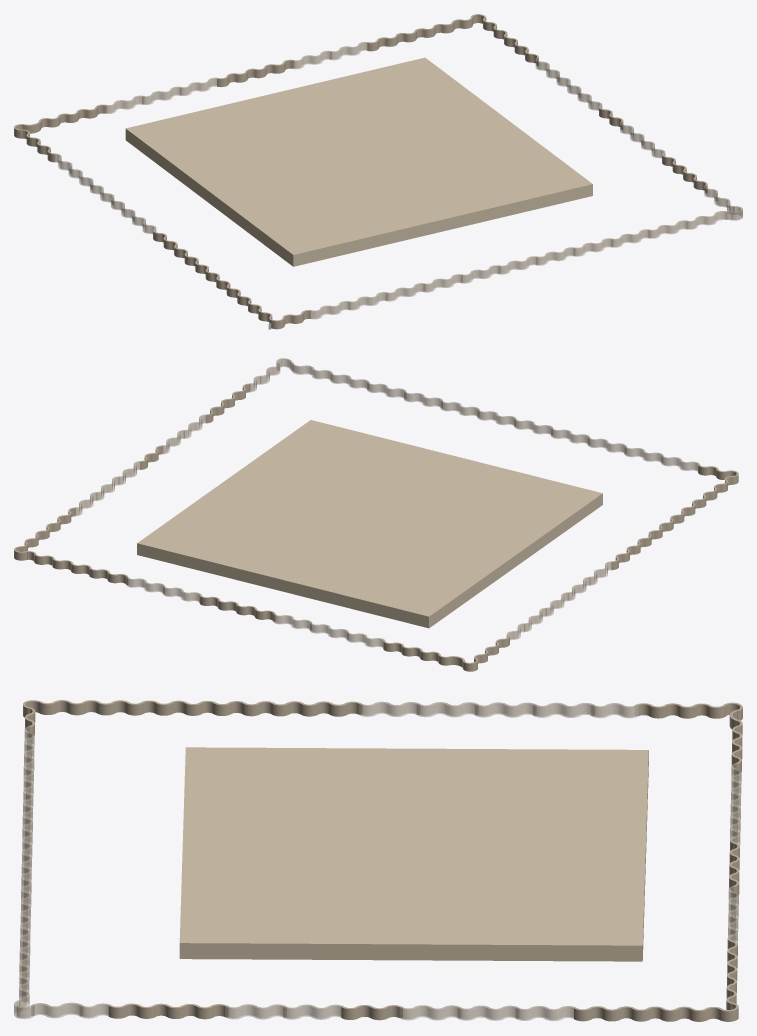
Rendered from Unfinished_SSaqqara.glb.
The picture shows the model from 3 angles, top to bottom: view 1: azimuth 30°, elevation 25°; view 2: azimuth 150°, elevation 25°; view 3: azimuth 270°, elevation 25°; orthographic projection. The views are drawn at different scales.
Parts seen in each view (by area): view 1: Mesh41 Model, Mesh46 Model, Mesh42 Model, Mesh43 Model; view 2: Mesh41 Model, Mesh46 Model, Mesh43 Model, Mesh44 Model; view 3: Mesh41 Model, Mesh46 Model, Mesh44 Model, Mesh42 Model, Mesh35 Sinusoidal_Wall35 Model, Mesh43 Model, Mesh9 Sinusoidal_Wall9 Model, Mesh7 Sinusoidal_Wall7 Model, Mesh34 Sinusoidal_Wall34 Model, Mesh4 Sinusoidal_Wall4 Model, Mesh24 Sinusoidal_Wall24 Model, Mesh8 Sinusoidal_Wall8 Model (+13 smaller).
Boxes of the visible parts, bbox=[...] form: Mesh41 Model: bbox=[125, 57, 592, 266]; Mesh46 Model: bbox=[686, 185, 742, 229]; Mesh42 Model: bbox=[442, 14, 496, 33]; Mesh43 Model: bbox=[258, 308, 312, 329]; Mesh41 Model: bbox=[137, 420, 602, 628]; Mesh46 Model: bbox=[249, 358, 332, 392]; Mesh43 Model: bbox=[698, 464, 738, 492]; Mesh44 Model: bbox=[462, 635, 509, 671]; Mesh41 Model: bbox=[179, 747, 648, 961]; Mesh46 Model: bbox=[14, 971, 111, 1019]; Mesh44 Model: bbox=[634, 702, 742, 720]; Mesh42 Model: bbox=[690, 984, 738, 1021]; Mesh35 Sinusoidal_Wall35 Model: bbox=[300, 701, 362, 716]; Mesh43 Model: bbox=[23, 700, 70, 737]; Mesh9 Sinusoidal_Wall9 Model: bbox=[166, 1004, 228, 1019]; Mesh7 Sinusoidal_Wall7 Model: bbox=[399, 1005, 460, 1020]; Mesh34 Sinusoidal_Wall34 Model: bbox=[416, 702, 478, 717]; Mesh4 Sinusoidal_Wall4 Model: bbox=[457, 1005, 518, 1020]; Mesh24 Sinusoidal_Wall24 Model: bbox=[475, 702, 536, 717]; Mesh8 Sinusoidal_Wall8 Model: bbox=[225, 1004, 286, 1019].
Bounding box in the file's own units: 126 × 3.01 × 124.
